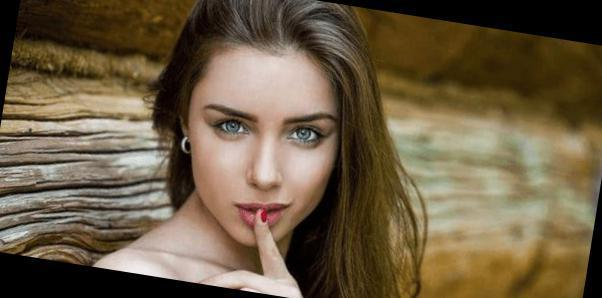Sober: (197, 61, 334, 229)
